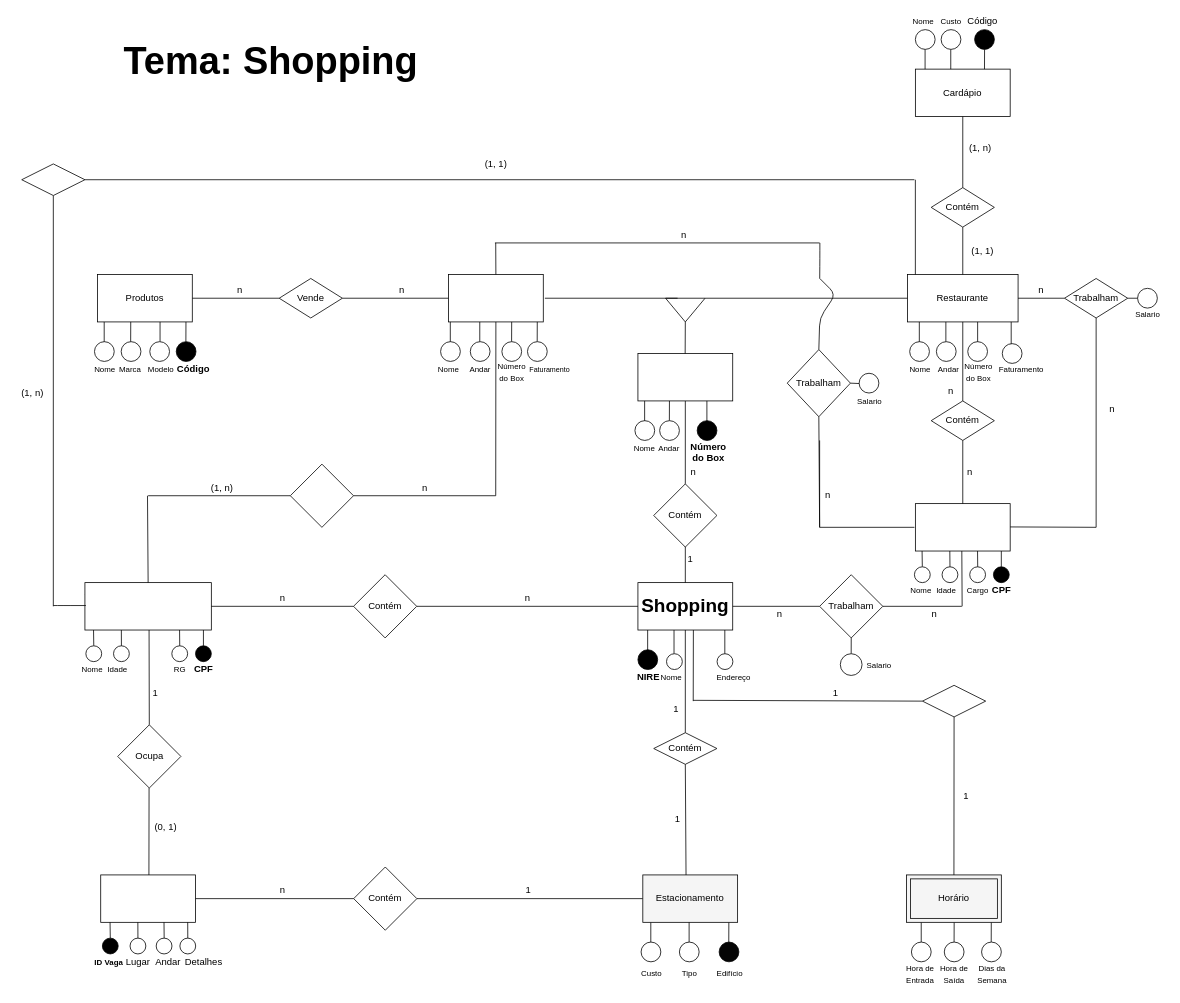
Image size: 1180x1003. Some labels were removed from this diagram. The shapes that lost their labels are listed below. From the top down, each one's centre as x and y in pixels, then its label:
At point 53,179: "Tem".
At point 495,298: "Loja".
At point 685,377: "Estabelecimento".
At point 322,495: "Visitam".
At point 962,527: "Funcionário".
At point 147,606: "Cliente".
At point 954,701: "Funciona".
At point 148,898: "Vagas".
